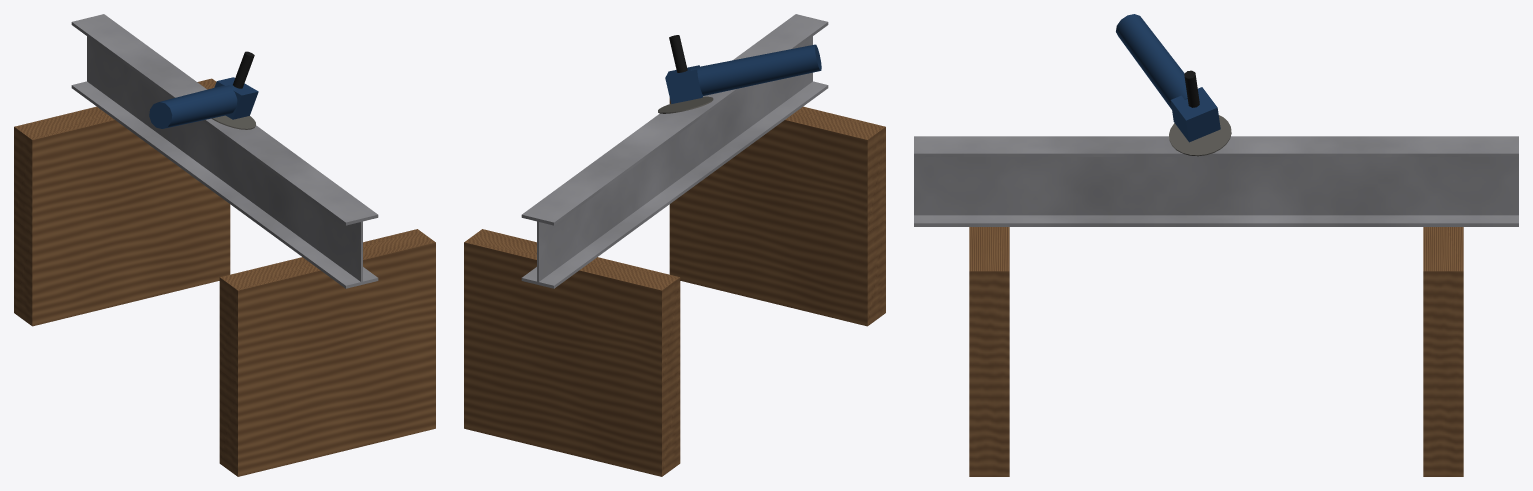
Rendered from grinder_L1.glb.
The picture shows the model from 3 angles, left to right: view 1: azimuth 30°, elevation 25°; view 2: azimuth 150°, elevation 25°; view 3: azimuth 270°, elevation 25°; orthographic projection. The views are drawn at different scales.
Visible parts, largest first — view 1: trestle (×2), beam, motor, head; view 2: trestle (×2), beam, motor, head, disc; view 3: beam, trestle (×2), motor, head, disc.
Part boxes in pixels (x1,y1,x2,y2): trestle (×2): [14, 78, 435, 476]; beam: [71, 14, 378, 288]; motor: [149, 85, 237, 128]; head: [214, 77, 258, 119]; trestle (×2): [464, 98, 885, 476]; beam: [521, 14, 828, 288]; motor: [690, 44, 821, 95]; head: [665, 65, 702, 103]; disc: [658, 96, 713, 113]; beam: [914, 136, 1518, 226]; trestle (×2): [969, 227, 1463, 476]; motor: [1116, 14, 1187, 109]; head: [1170, 87, 1220, 142]; disc: [1169, 115, 1231, 156].
Bounding box in the file's own units: 0.5271 × 0.7829 × 1.2.
5 materials, 2 textured.
